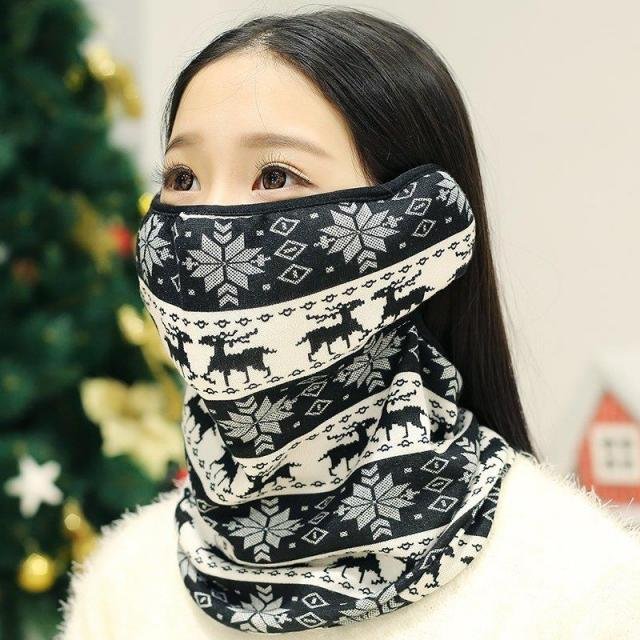mask: (152, 54, 366, 357)
